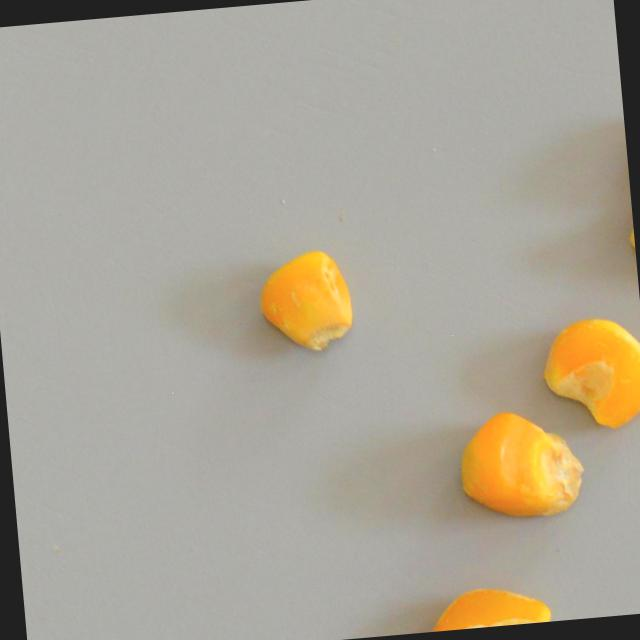dañado: (452, 399, 594, 524), (418, 572, 557, 632)
pelicula: (251, 240, 361, 362), (536, 311, 640, 437)
